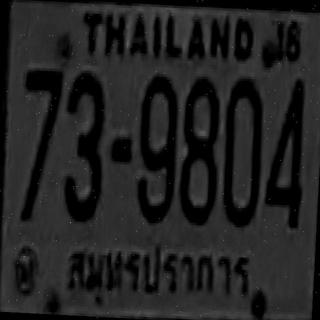N00: (219, 76, 264, 225)
N03: (60, 70, 105, 220)
N04: (263, 75, 306, 226)
N07: (18, 67, 62, 220)
N08: (177, 75, 220, 224)
N09: (134, 72, 178, 220)
P57: (62, 232, 256, 306)
